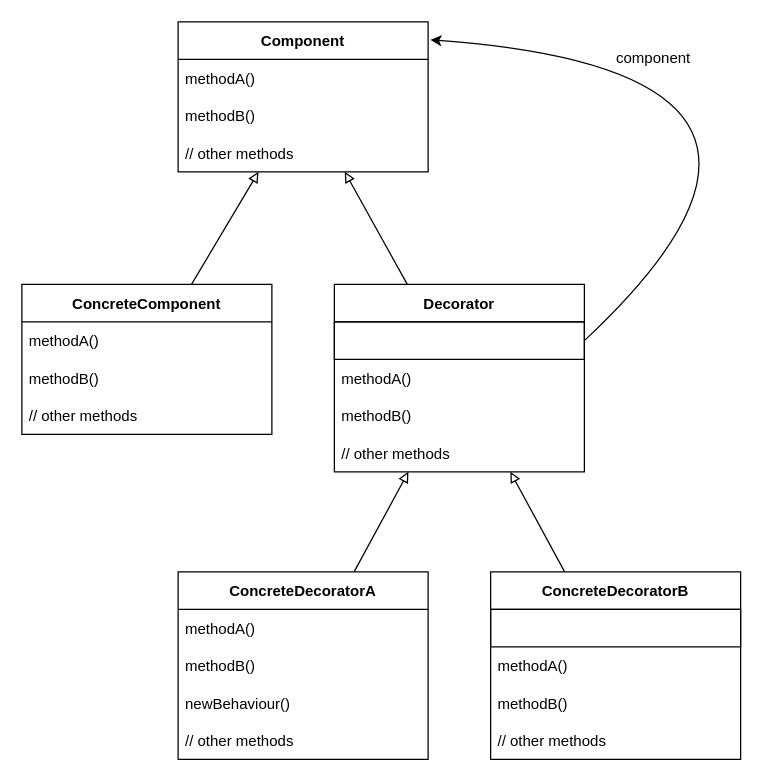
Image size: 763x781. Some labels were removed from this diagram. The centre of each missing label's shape, as x and y in pixels:
"Component wrappedObj" belongs at point (458, 340).
"Object newState" belongs at point (615, 627).
